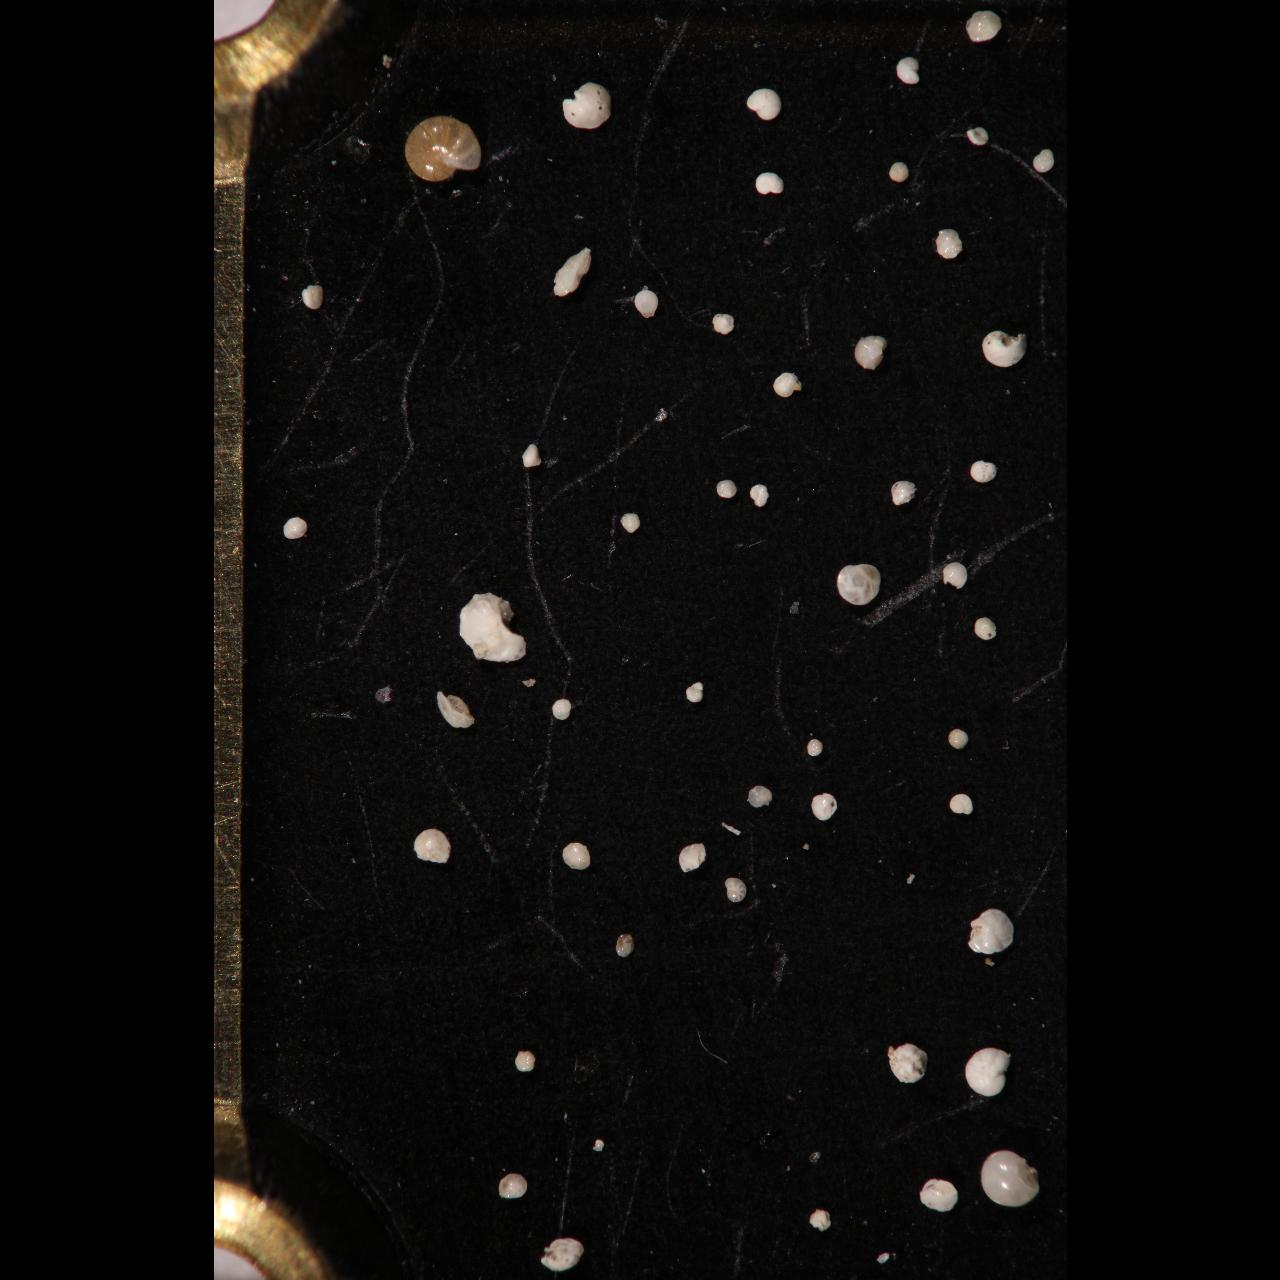calcareous: (404, 115, 482, 184), (457, 592, 526, 663), (979, 1148, 1040, 1208), (560, 79, 612, 131), (964, 1047, 1010, 1097), (967, 907, 1014, 955), (552, 245, 592, 297), (836, 561, 881, 606), (885, 1042, 930, 1084), (981, 329, 1027, 369), (537, 1237, 583, 1273), (435, 690, 476, 730), (919, 1177, 959, 1213), (414, 828, 450, 865), (852, 334, 887, 370), (966, 9, 1002, 43), (745, 87, 783, 120), (678, 840, 707, 873), (934, 229, 964, 260), (561, 840, 591, 871), (497, 1171, 527, 1199), (896, 55, 922, 87), (772, 372, 803, 399), (633, 287, 659, 319), (811, 791, 838, 821), (754, 171, 784, 197), (890, 478, 915, 508), (942, 561, 968, 591), (969, 459, 998, 485), (747, 784, 774, 810), (299, 282, 324, 311), (973, 615, 998, 641), (808, 1207, 832, 1233), (281, 516, 306, 540), (1032, 148, 1055, 173), (948, 792, 974, 816), (723, 877, 747, 903), (887, 159, 911, 184), (966, 124, 990, 147), (550, 697, 572, 722), (712, 312, 735, 334), (946, 728, 969, 750), (513, 1049, 535, 1074), (615, 932, 634, 959), (748, 483, 768, 508), (523, 442, 542, 468), (715, 479, 737, 501), (620, 511, 640, 535), (685, 681, 704, 703), (806, 738, 823, 758), (590, 1138, 605, 1152)
